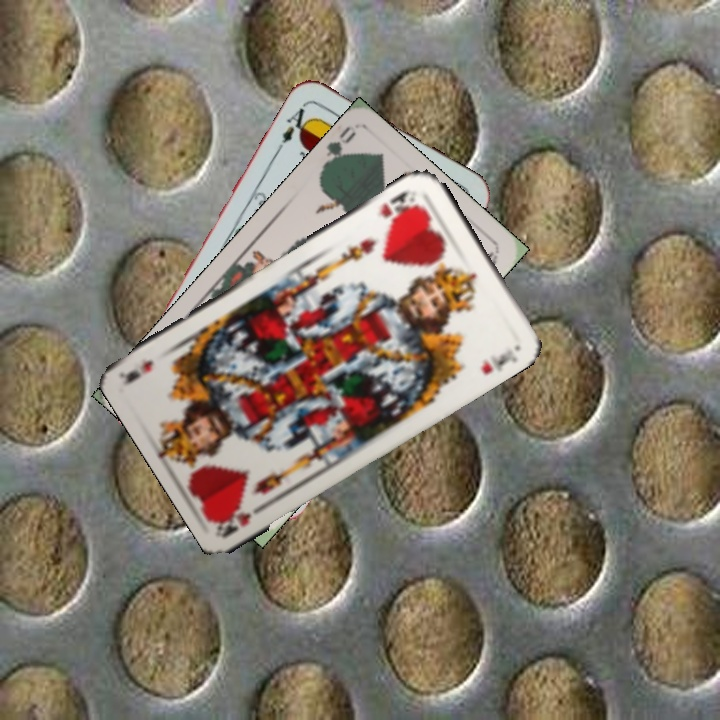EA: (273, 99, 315, 153)
GO: (316, 122, 359, 175)
HK: (217, 496, 274, 539), (375, 185, 420, 223)
